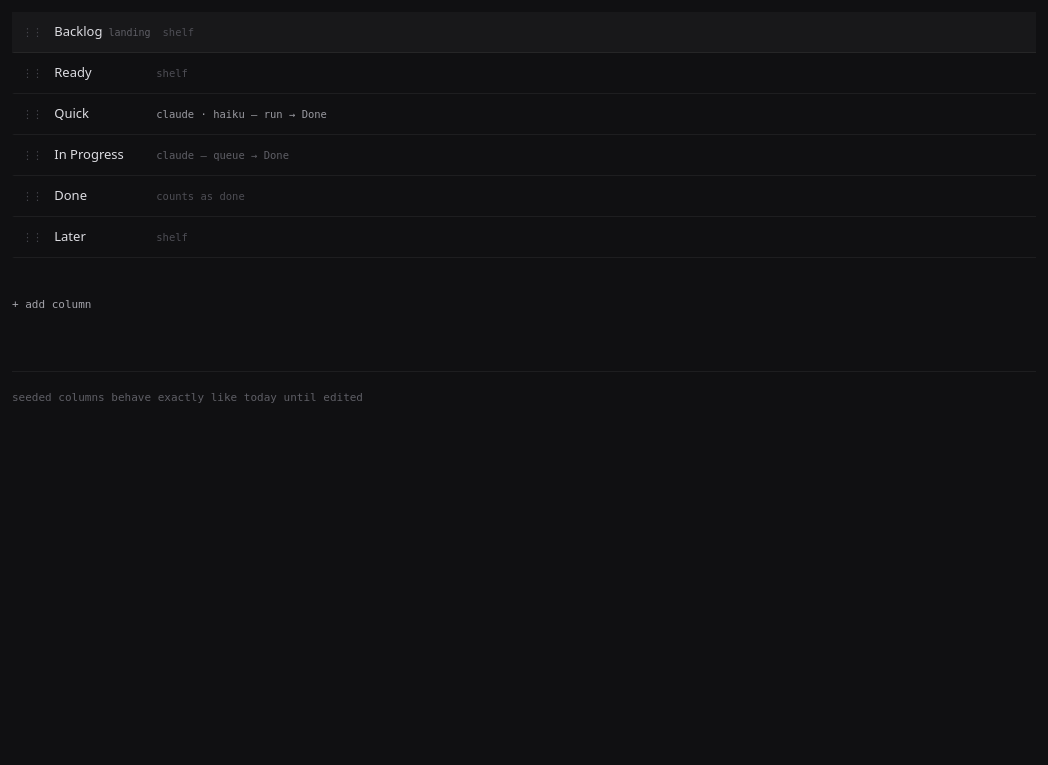
Test: errors › surfaces a backend rejection in the pane's error line
The image size is (1048, 765).
Check: the text "Backlog" is shown, box [54, 22, 102, 40]
Click the button with class "fc-col-row" showing "⋮⋮ Ready shelf": (73, 72) [14, 53, 1036, 93]
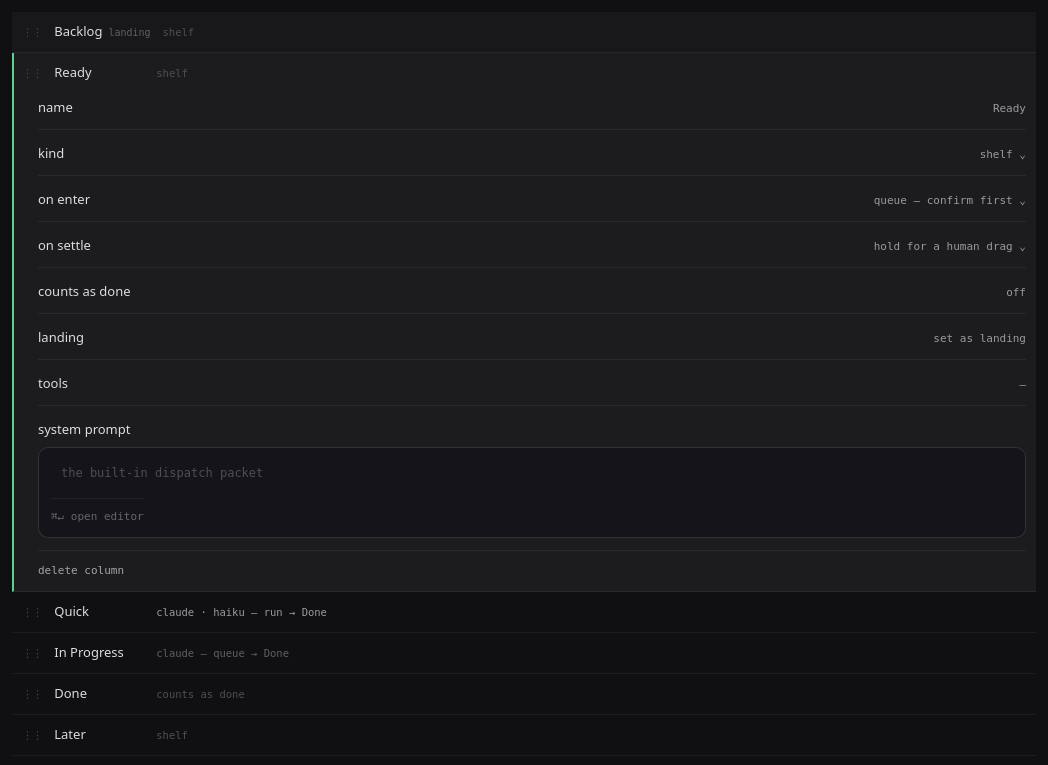
Click the button "counts as done off": (84, 291) [38, 281, 1026, 314]
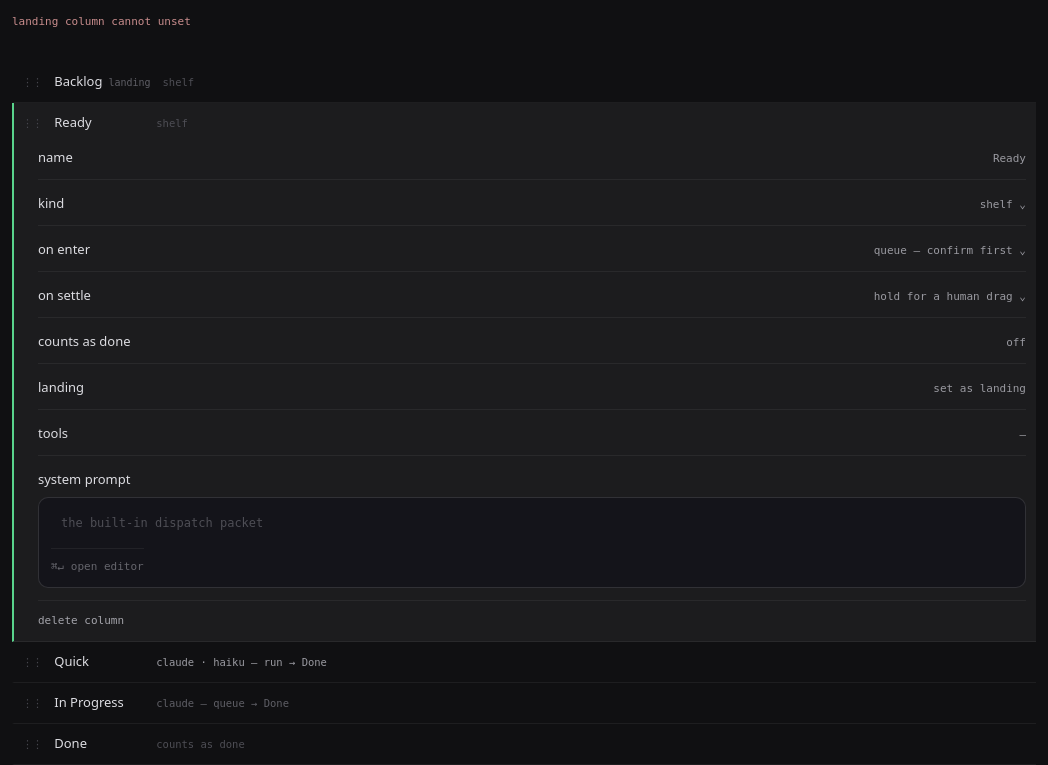
Check: the text with class "fc-set-error" reads "landing column cannot unset", box [12, 15, 191, 28]
